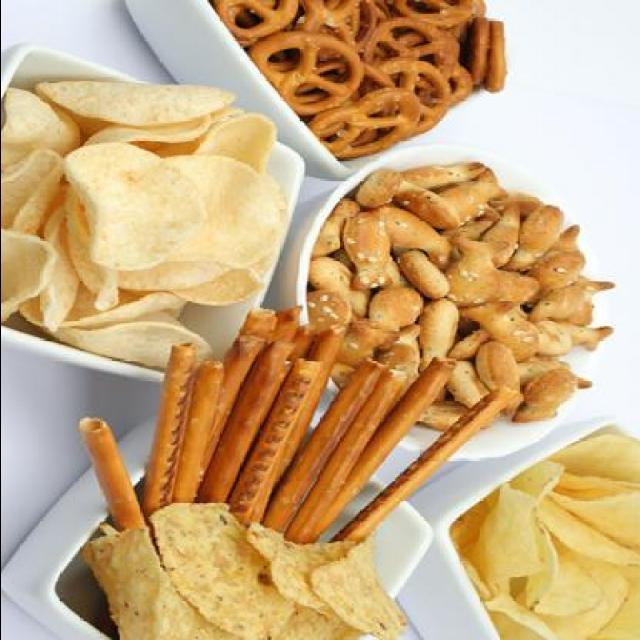Chips packaged: (2, 92, 302, 314), (464, 428, 638, 640)
Salatini packaged: (337, 160, 592, 442), (220, 1, 511, 145)
